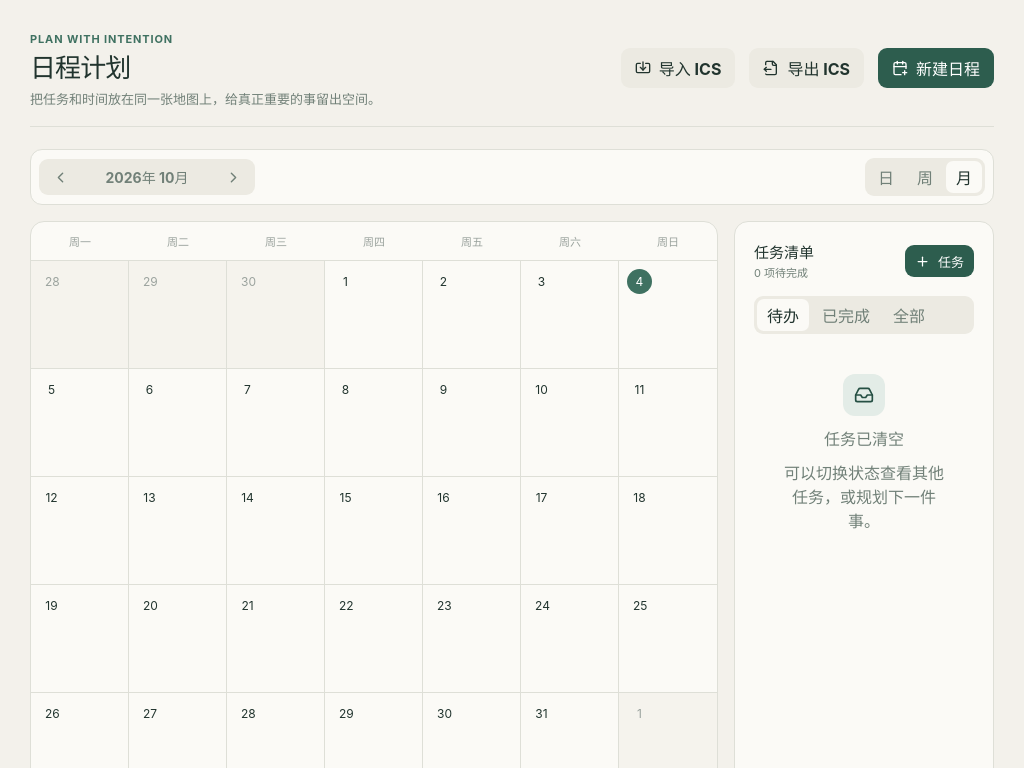
Test: ICS 文件选择失败返回页面错误而非未处理拒绝
Click the button "导入 ICS": (678, 68) [621,48,735,88]
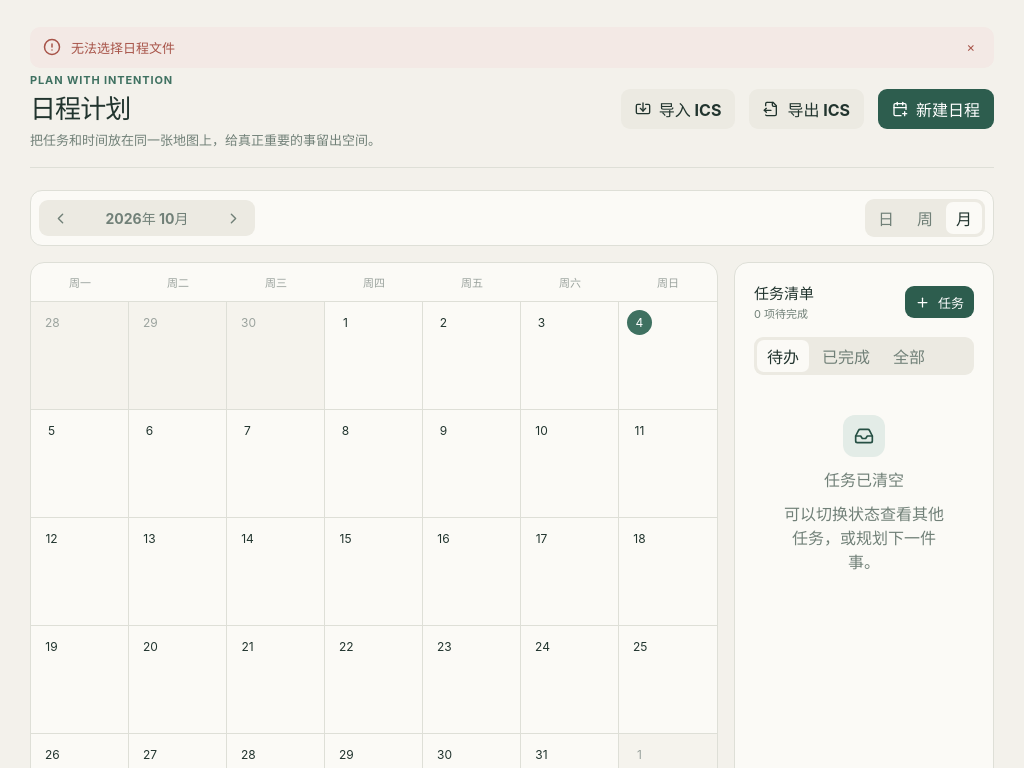
Now the text "无法选择日程文件" is shown, box [71,40,175,56]
